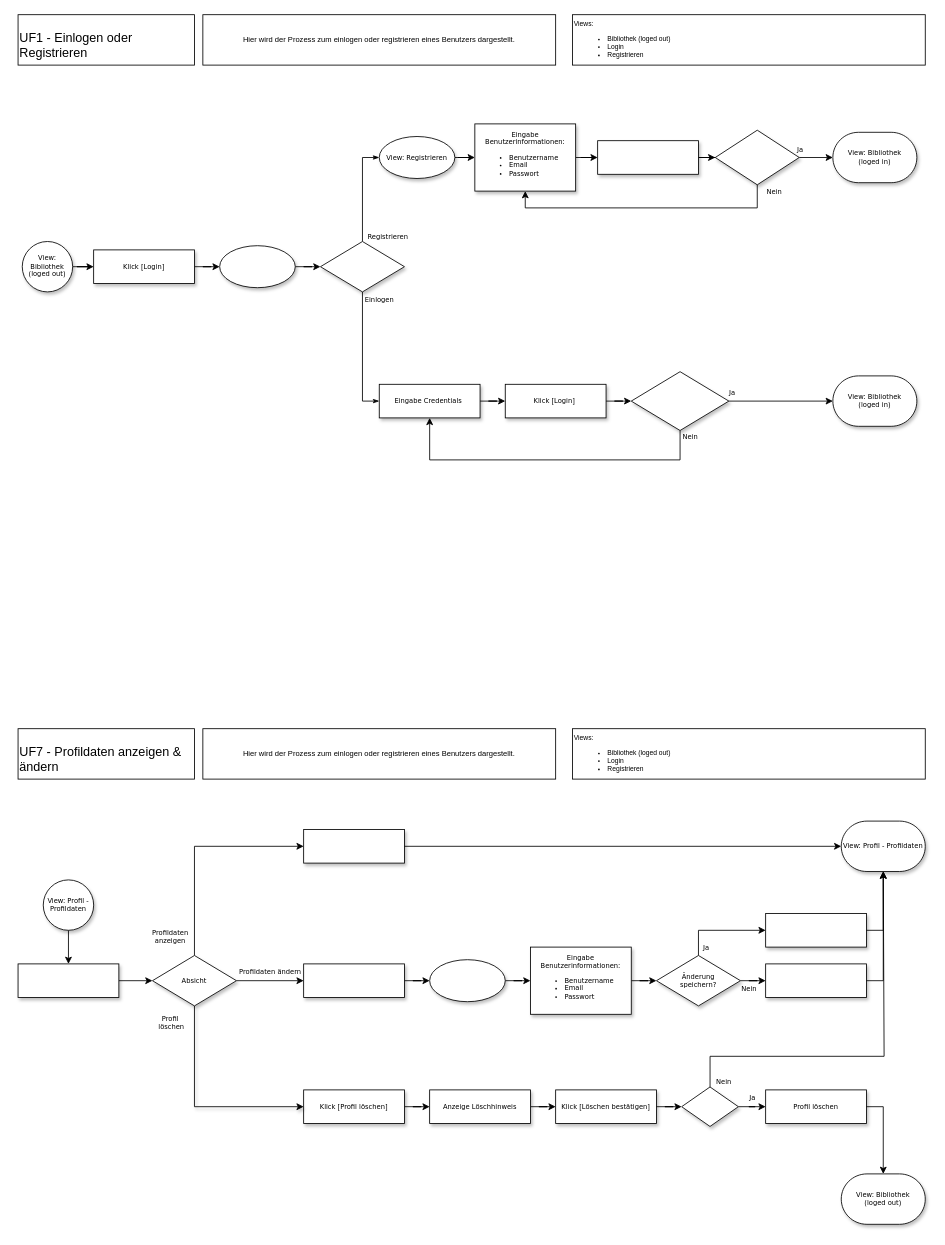
Image size: 945x1245. Some labels were removed from this diagram. Each missing label, with the centre of its shape:
"Anzeige der Profildaten" belongs at point 354,847.
"Authentifizierung: Credentials korrekt?" belongs at point 680,402.
"bestätigt?" belongs at point 710,1107.
"Einlogen oder Registrieren?" belongs at point 363,267.
"Informationen vollständig und valide?" belongs at point 757,158.
"Klick [Abbrechen]" belongs at point 816,981.
"Klick [Profildaten ändern]" belongs at point 354,981.
"Klick [Profildaten]" belongs at point 69,981.
"Klick [Registrieren]" belongs at point 648,158.
"Klick [Änderung speichern]" belongs at point 816,931.
"View: Login" belongs at point 257,268.
"View: Registrieren - Profildaten ändern" belongs at point 467,982.
